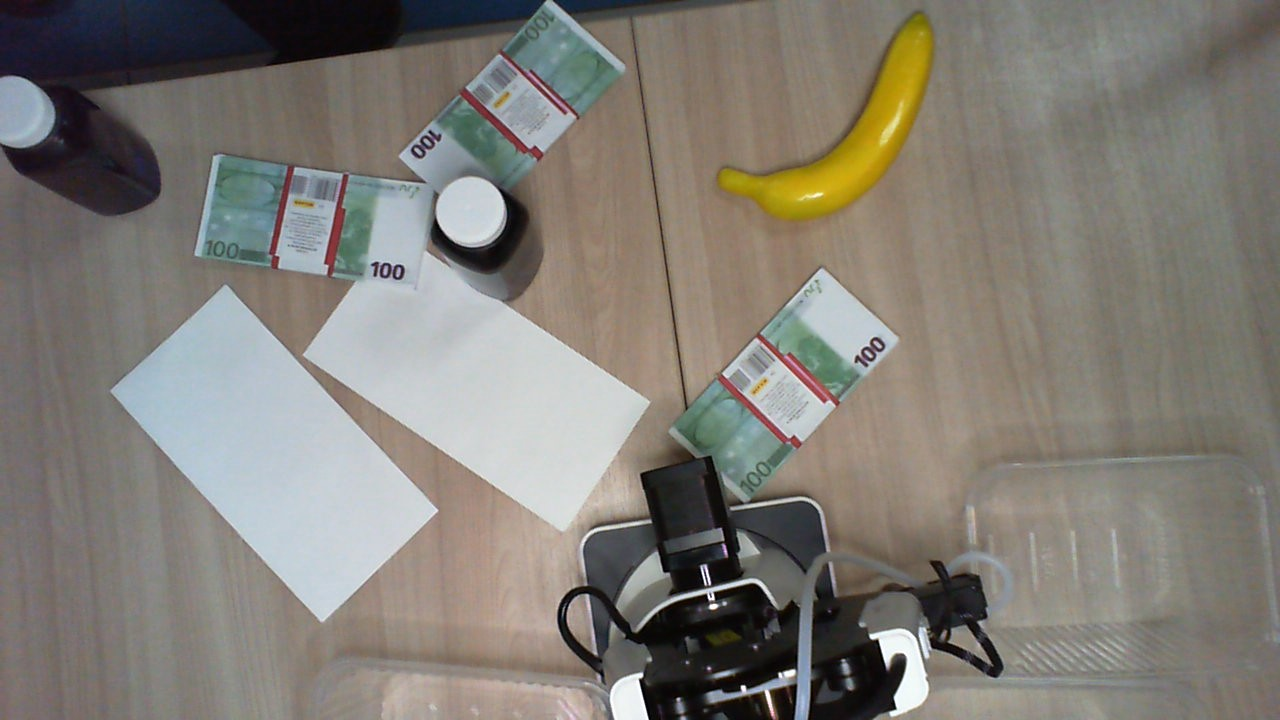banana: (713, 10, 935, 223)
bottle: (430, 172, 526, 268), (2, 68, 75, 173)
convert: (102, 295, 438, 620), (304, 243, 654, 533)
money: (668, 264, 903, 507), (398, 1, 631, 211), (192, 151, 433, 292)
